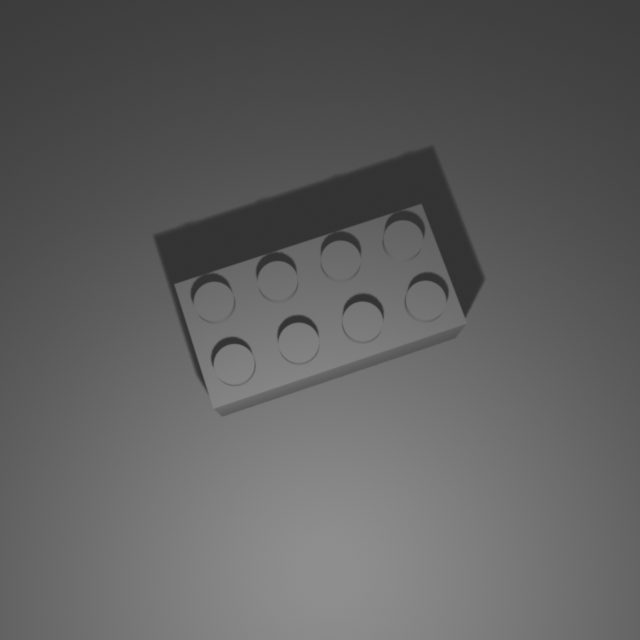lego_2x4: (172, 199, 469, 417)
